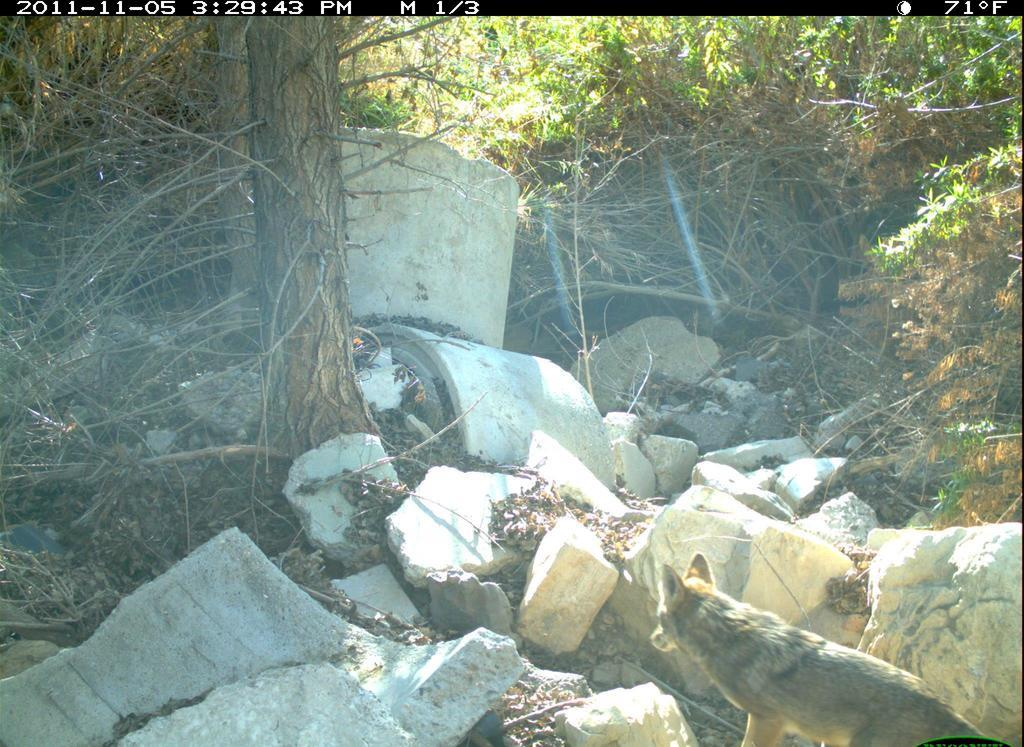coyote: (647, 547, 1005, 747)
